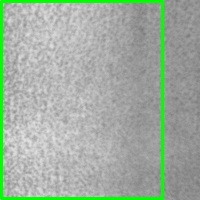pitted_surface: (1, 1, 162, 198)
